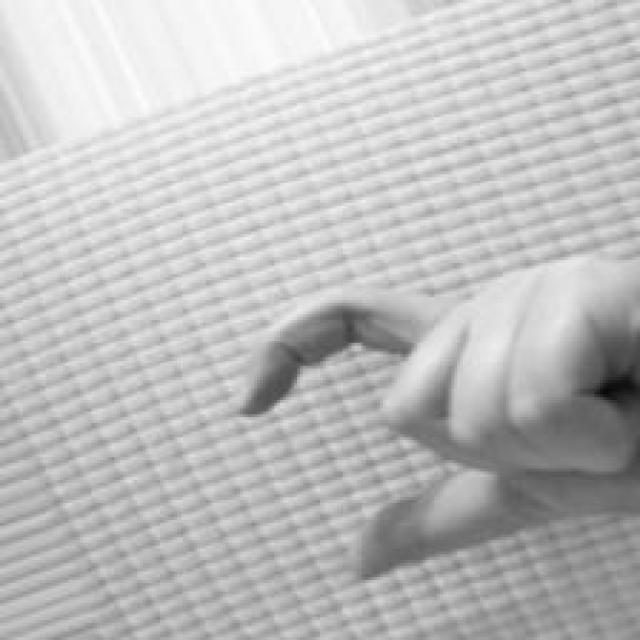C: (234, 252, 640, 582)
